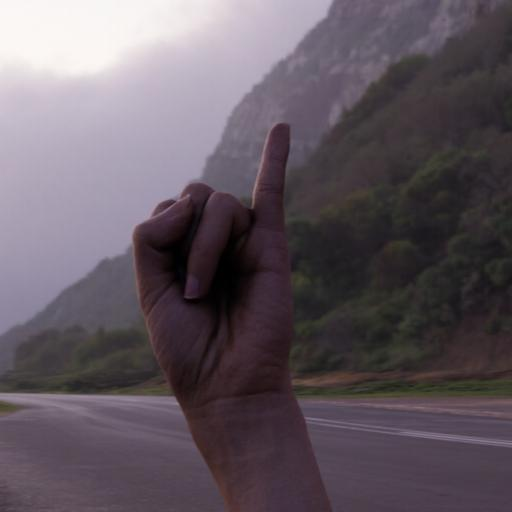I: (118, 112, 320, 512)
